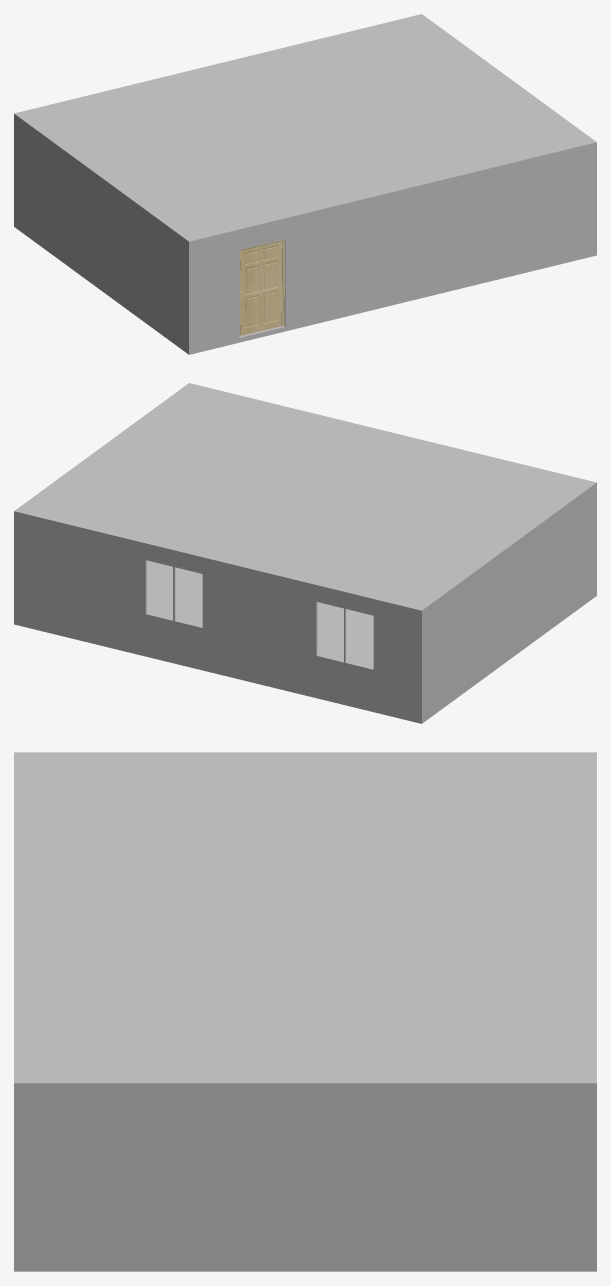
Rendered from TRoom.obj.
The picture shows the model from 3 angles, top to bottom: view 1: azimuth 30°, elevation 25°; view 2: azimuth 150°, elevation 25°; view 3: azimuth 270°, elevation 25°; orthographic projection. The views are drawn at different scales.
Parts seen in each view (by area): view 1: Room_Куб, door; view 2: Room_Куб, WIndow.001_Куб.005, WIndow_Куб.003; view 3: Room_Куб.
Part boxes in pixels (x1=…): Room_Куб: x1=14, y1=14, x2=596, y2=354; door: x1=239, y1=239, x2=284, y2=336; Room_Куб: x1=14, y1=383, x2=596, y2=723; WIndow.001_Куб.005: x1=144, y1=558, x2=204, y2=629; WIndow_Куб.003: x1=315, y1=600, x2=374, y2=671; Room_Куб: x1=14, y1=752, x2=596, y2=1271.
Size of the model in its own units: 56.53 by 15 by 42.06.
